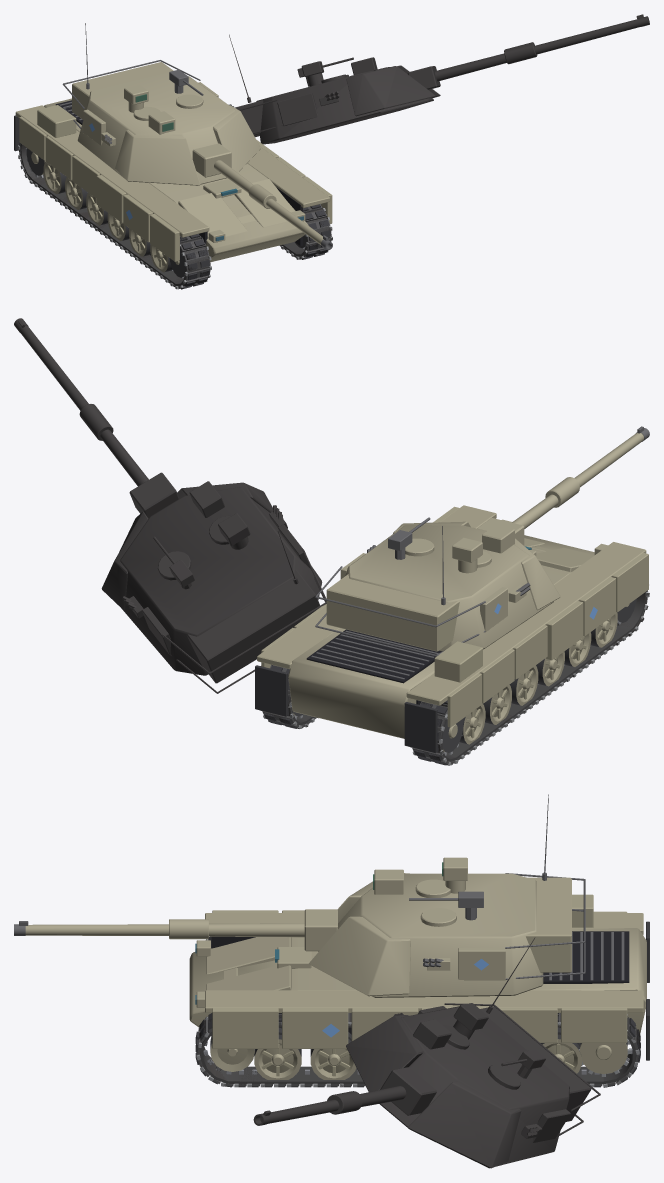
File: tank__vt_4_vickers_mk_3.glb
3 views of the same model, one above another, from view 1: azimuth 30°, elevation 25°; view 2: azimuth 150°, elevation 25°; view 3: azimuth 270°, elevation 25° (orthographic). The views are drawn at different scales.
Parts seen in each view (by area): view 1: Hull_Mesh, Turret_Mesh, Wreck, Track_L_Mesh, Gun_Mesh, Track_R_Mesh, CITV_Mesh, Gunner_Sight_Mesh, Wheel_L0_Mesh, Wheel_L1_Mesh, Wheel_L2_Mesh; view 2: Wreck, Hull_Mesh, Turret_Mesh, Track_L_Mesh, Gun_Mesh, CITV_Mesh, Wheel_L2_Mesh, Track_R_Mesh, Wheel_L1_Mesh, Gunner_Sight_Mesh, Wheel_L0_Mesh, Wheel_L3_Mesh; view 3: Hull_Mesh, Wreck, Turret_Mesh, Gun_Mesh, Track_R_Mesh, Wheel_R5_Mesh, Sprocket_R_Mesh, Wheel_R4_Mesh, Idler_R_Mesh, CITV_Mesh, Gunner_Sight_Mesh, Wheel_R0_Mesh (+3 smaller).
Boxes of the visible parts, x1=… form: Hull_Mesh: x1=14, y1=98, x2=332, y2=262; Turret_Mesh: x1=62, y1=60, x2=260, y2=185; Wreck: x1=18, y1=14, x2=649, y2=288; Track_L_Mesh: x1=17, y1=139, x2=211, y2=289; Gun_Mesh: x1=192, y1=143, x2=332, y2=250; Track_R_Mesh: x1=279, y1=204, x2=332, y2=259; CITV_Mesh: x1=124, y1=84, x2=148, y2=112; Gunner_Sight_Mesh: x1=148, y1=111, x2=175, y2=134; Wheel_L0_Mesh: x1=43, y1=161, x2=66, y2=194; Wheel_L1_Mesh: x1=65, y1=177, x2=87, y2=209; Wheel_L2_Mesh: x1=86, y1=193, x2=107, y2=225; Wreck: x1=14, y1=318, x2=649, y2=763; Hull_Mesh: x1=255, y1=505, x2=648, y2=753; Turret_Mesh: x1=315, y1=521, x2=560, y2=656; Track_L_Mesh: x1=410, y1=590, x2=649, y2=765; Gun_Mesh: x1=477, y1=426, x2=649, y2=545; CITV_Mesh: x1=452, y1=537, x2=482, y2=573; Wheel_L2_Mesh: x1=509, y1=665, x2=538, y2=705; Track_R_Mesh: x1=260, y1=664, x2=316, y2=728; Wheel_L1_Mesh: x1=483, y1=685, x2=511, y2=724; Gunner_Sight_Mesh: x1=482, y1=525, x2=514, y2=553; Wheel_L0_Mesh: x1=459, y1=703, x2=485, y2=744; Wheel_L3_Mesh: x1=536, y1=651, x2=564, y2=686; Hull_Mesh: x1=189, y1=894, x2=649, y2=1060; Wreck: x1=197, y1=937, x2=640, y2=1168; Turret_Mesh: x1=309, y1=873, x2=585, y2=997; Gun_Mesh: x1=14, y1=909, x2=337, y2=951; Track_R_Mesh: x1=195, y1=1013, x2=640, y2=1087; Wheel_R5_Mesh: x1=254, y1=1028, x2=301, y2=1079; Sprocket_R_Mesh: x1=579, y1=1039, x2=631, y2=1076; Wheel_R4_Mesh: x1=310, y1=1032, x2=356, y2=1079; Idler_R_Mesh: x1=210, y1=1035, x2=254, y2=1071; CITV_Mesh: x1=442, y1=857, x2=467, y2=893; Gunner_Sight_Mesh: x1=373, y1=869, x2=403, y2=894; Wheel_R0_Mesh: x1=540, y1=1027, x2=581, y2=1073.
Size of what is drawn, in the model's own units: 11.6 by 3.79 by 9.85.
